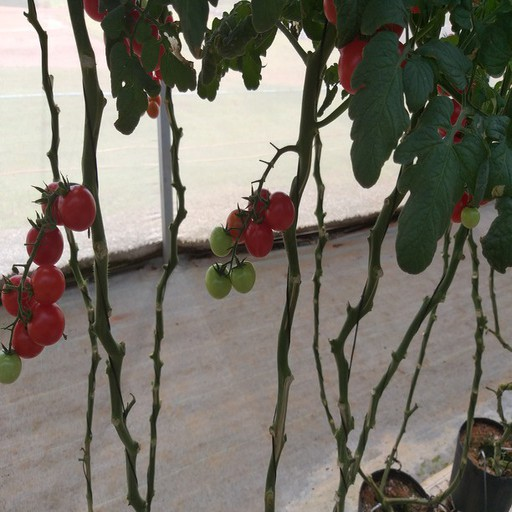mixed tomato bunch: (206, 186, 296, 303)
red tomato bunch: (1, 179, 96, 357), (84, 1, 175, 116), (427, 58, 484, 228), (323, 1, 412, 97)
